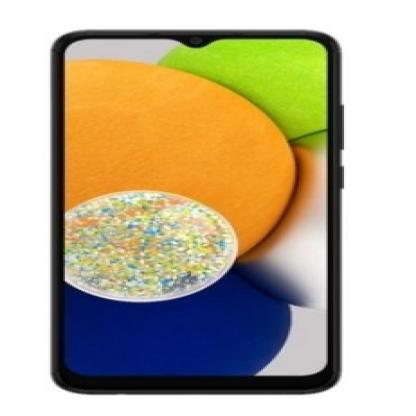SMARTPHONE: (38, 26, 376, 404)
